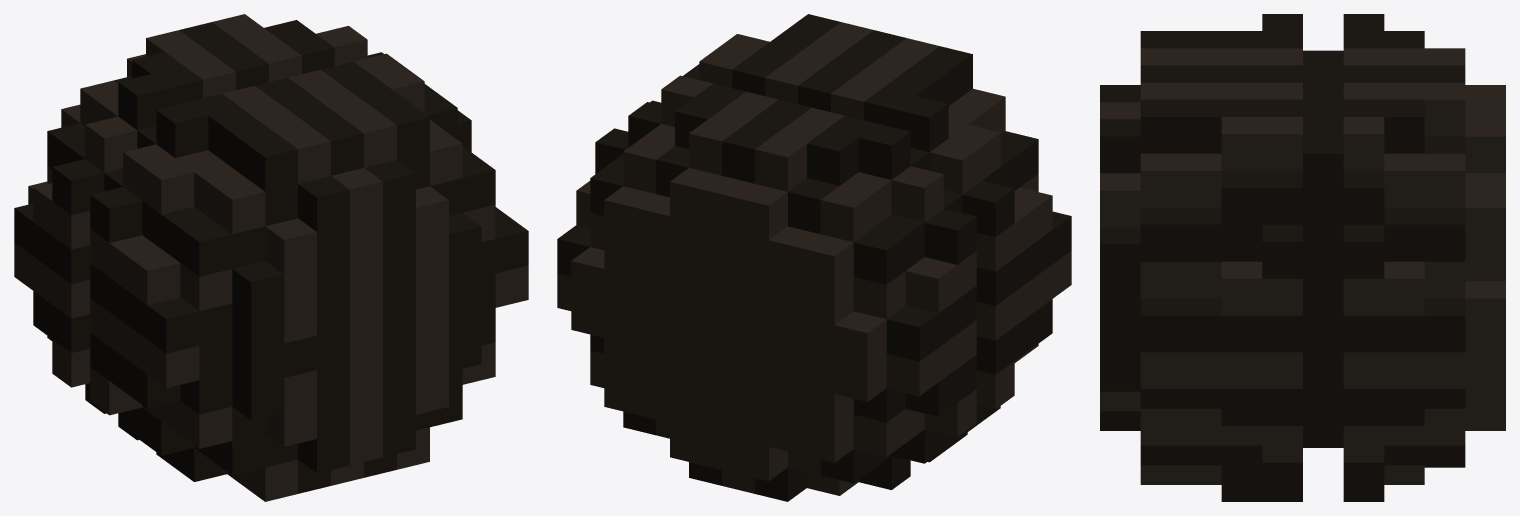
Rendered from tavern-18-keg.glb.
3 renders of one model, left to right at view 1: azimuth 30°, elevation 25°; view 2: azimuth 150°, elevation 25°; view 3: azimuth 270°, elevation 25°, orthographic. The views are drawn at different scales.
Visible parts, largest first — view 1: keg; view 2: keg; view 3: keg.
Boxes of the visible parts, x1,y1,x2,y2 form: keg: (14,14,528,501); keg: (557,14,1071,501); keg: (1100,14,1505,501).
Size of the model in its own units: 1.1 by 1 by 1.
Materials: 1 (1 with a texture image).
